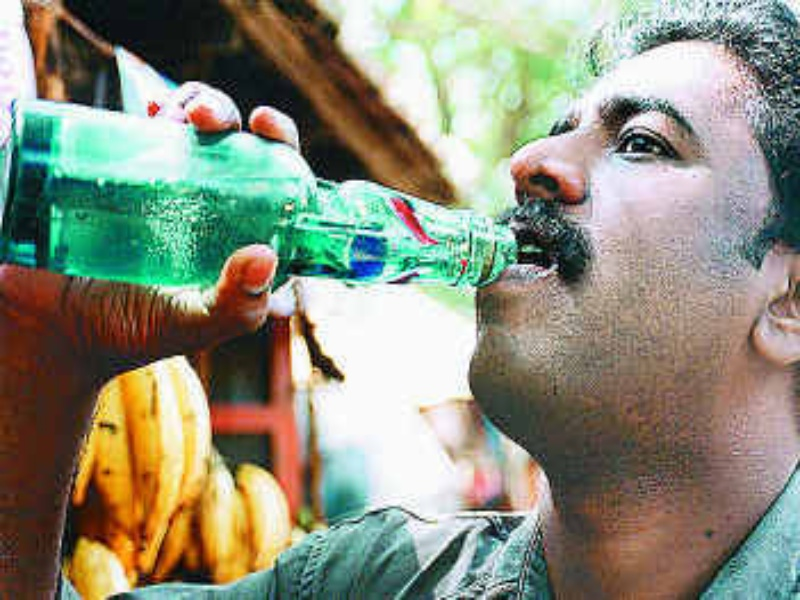Plastic bottle: (6, 74, 546, 315)
